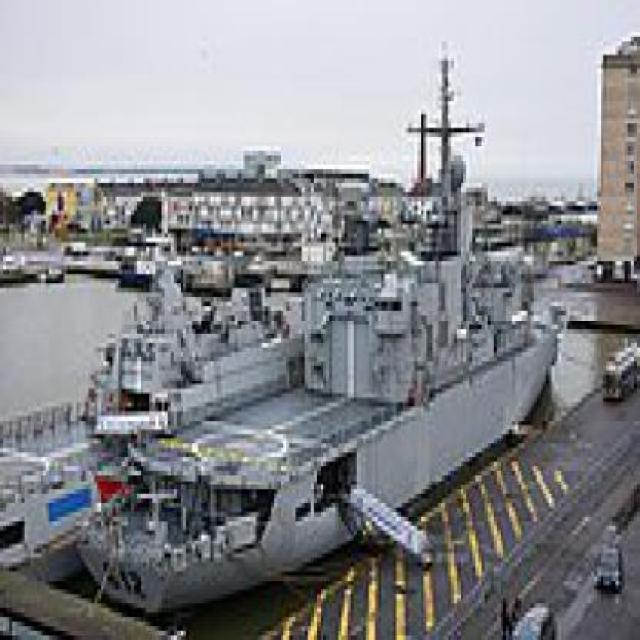warship2: (77, 28, 583, 619), (10, 175, 309, 518)
